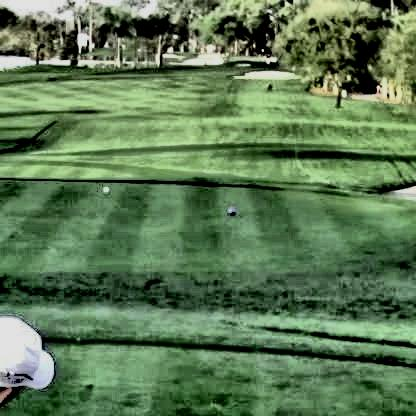golfball: (98, 183, 107, 192)
